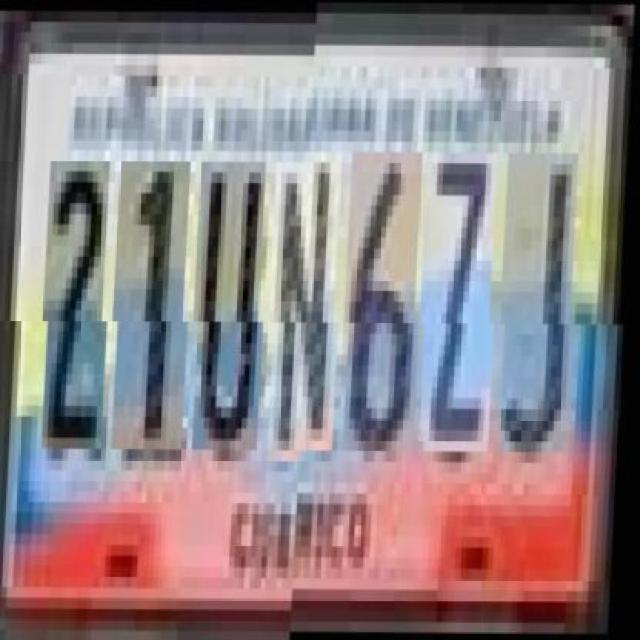1: (115, 161, 198, 448)
2: (46, 161, 117, 448)
6: (347, 162, 428, 462)
j: (502, 162, 586, 462)
n: (272, 162, 348, 462)
u: (198, 162, 273, 449)
z: (422, 162, 506, 462)
